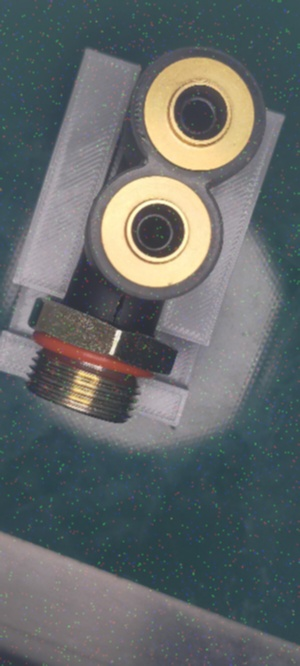craze: (110, 292, 130, 325)
